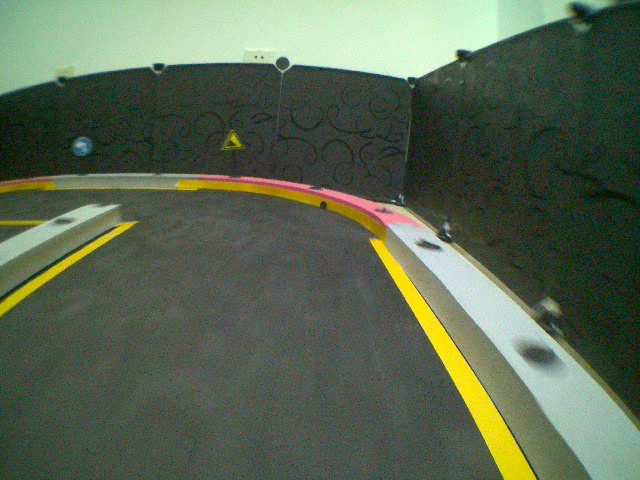fast: (218, 127, 245, 153)
turn: (69, 137, 93, 157)
